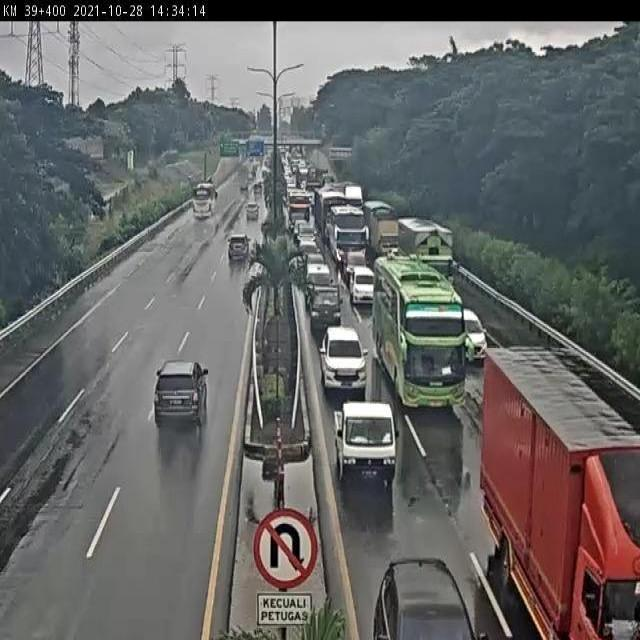bus-l-: (372, 252, 465, 412), (330, 205, 370, 263)
car: (332, 400, 398, 480), (152, 357, 210, 424), (317, 324, 366, 387), (451, 307, 486, 361), (309, 280, 342, 333), (302, 260, 335, 296), (350, 265, 373, 303), (341, 250, 367, 278), (297, 238, 318, 266), (302, 250, 323, 270)
truck-l-: (486, 348, 640, 640)
